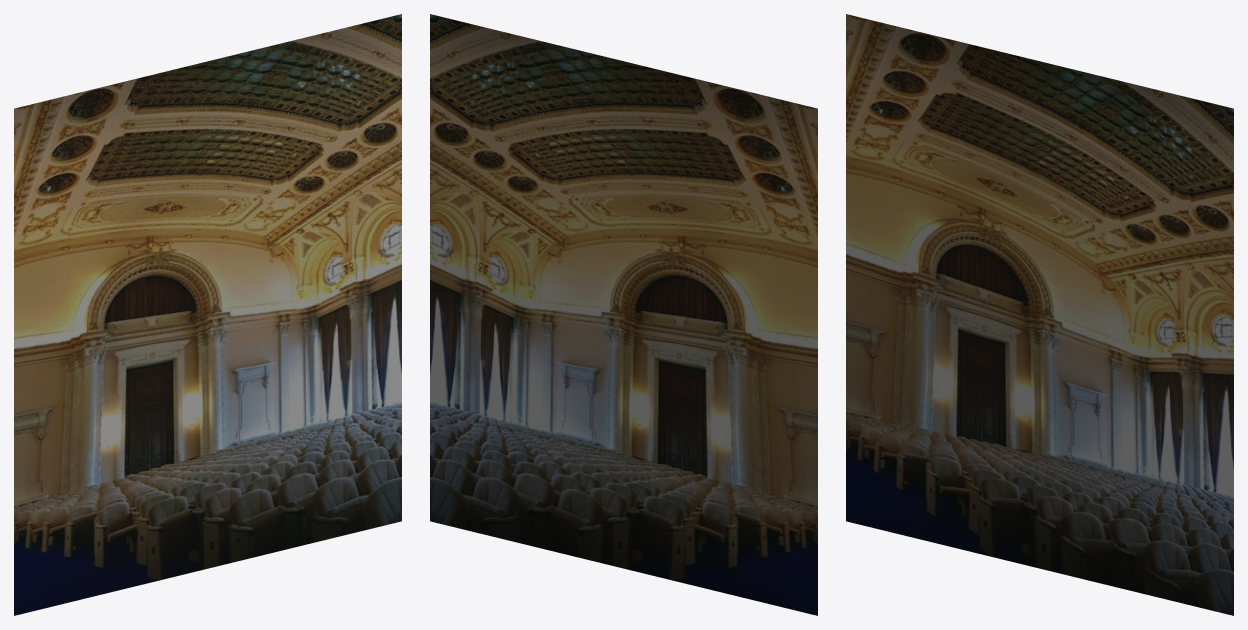
The picture shows the model from 3 angles, left to right: view 1: azimuth 30°, elevation 25°; view 2: azimuth 150°, elevation 25°; view 3: azimuth 330°, elevation 25°; orthographic projection.
Parts seen in each view (by area): view 1: node-0; view 2: node-0; view 3: node-0.
Part boxes in pixels (x1,y1,x2,y2): node-0: (14, 14, 401, 615); node-0: (430, 14, 817, 615); node-0: (846, 14, 1233, 615).
Size of the model in its own units: 381 by 476 by 0.
1 material, 1 textured.
